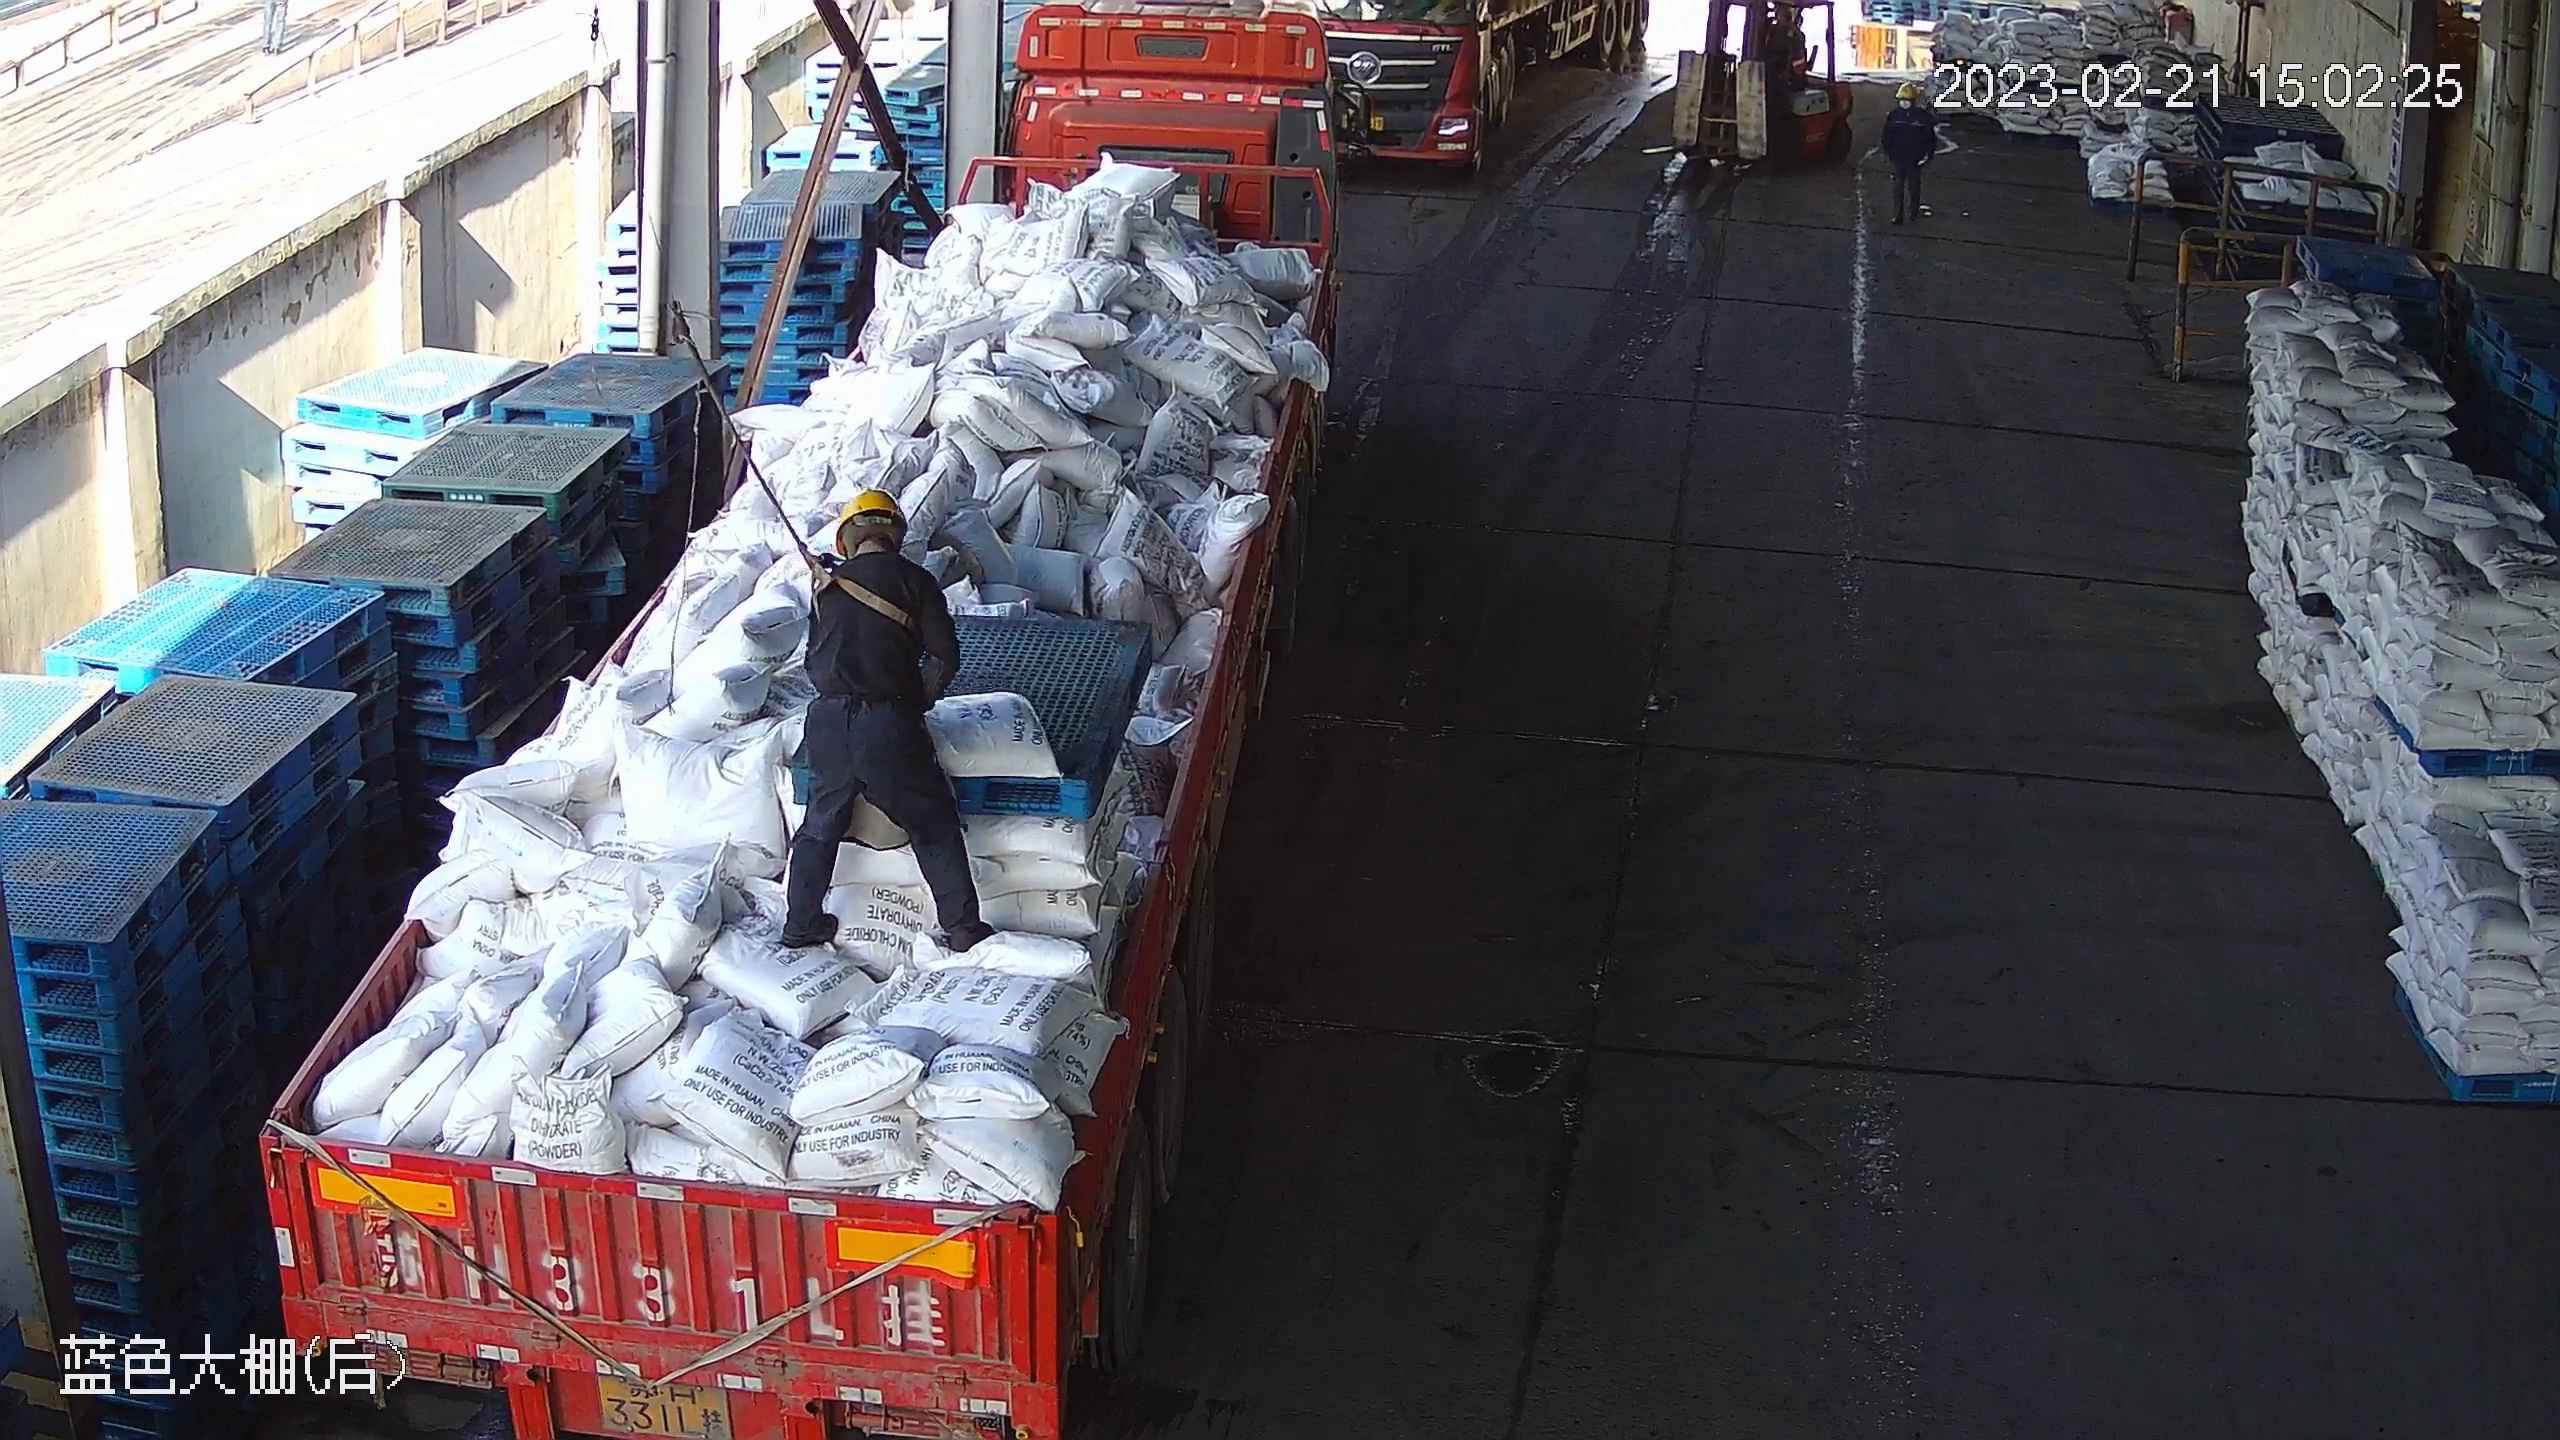belt: (794, 534, 927, 629)
head: (798, 494, 964, 629), (1884, 77, 1936, 135)
helmet: (825, 482, 923, 540), (1898, 78, 1921, 105)
people: (788, 478, 999, 958), (1882, 80, 1939, 230)
truck: (248, 1, 1333, 1416), (1329, 1, 1659, 171)
